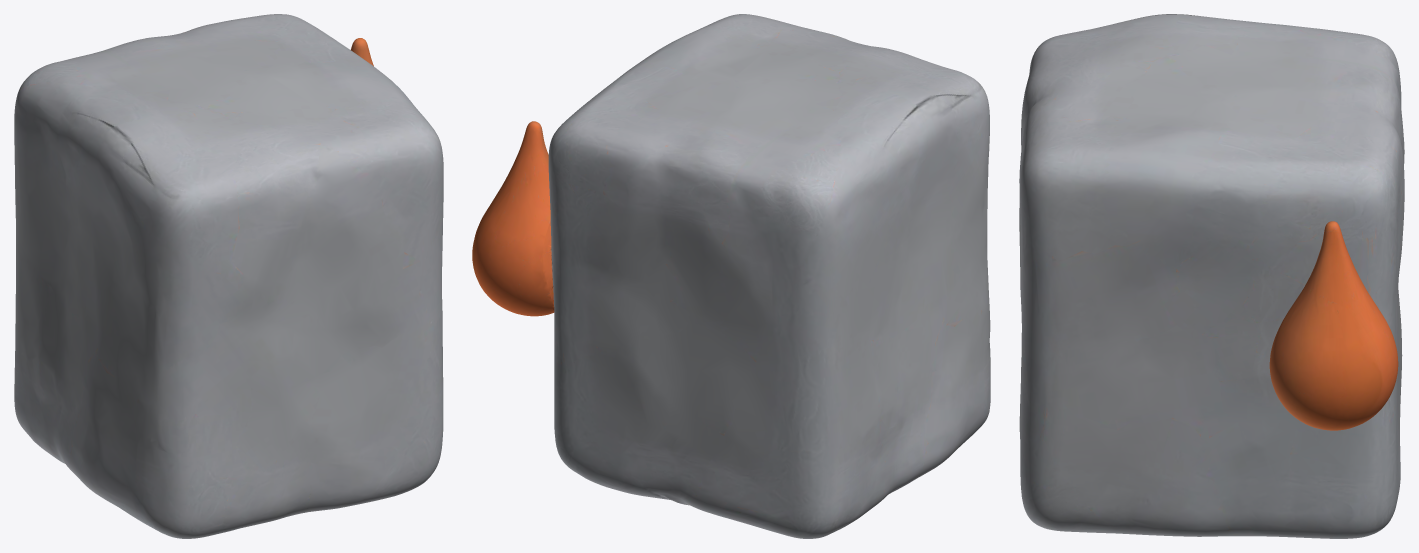
The model's file is ice_cube.glb.
The picture shows the model from 3 angles, left to right: view 1: azimuth 30°, elevation 25°; view 2: azimuth 150°, elevation 25°; view 3: azimuth 270°, elevation 25°; orthographic projection. The views are drawn at different scales.
Size of the model in its own units: 1.9 by 1.74 by 1.49.
Materials: 1 (1 with a texture image).
